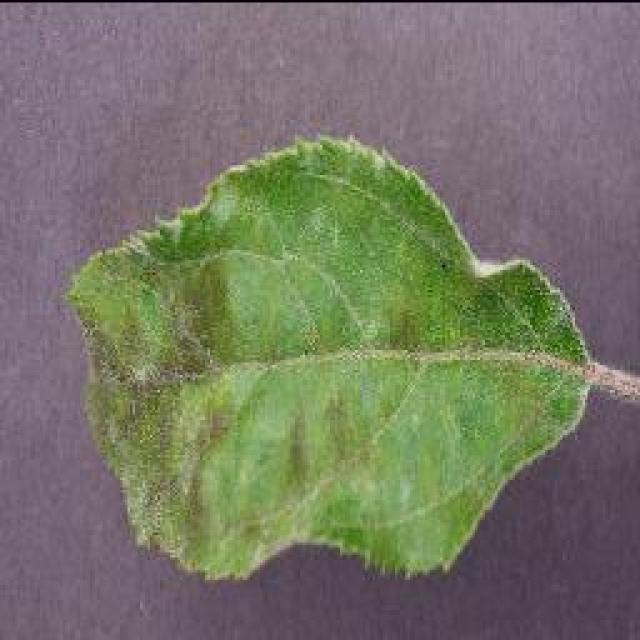apple scab disease: (62, 130, 610, 582)
